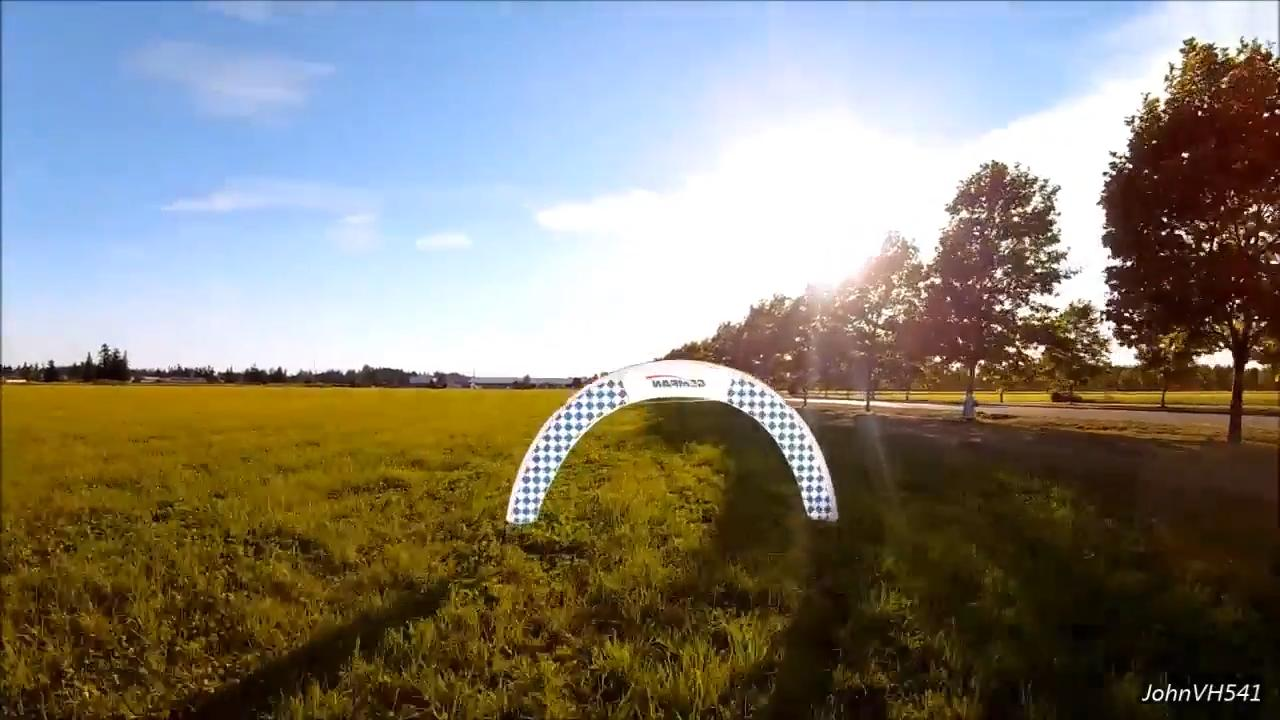gate: (500, 359, 843, 528)
